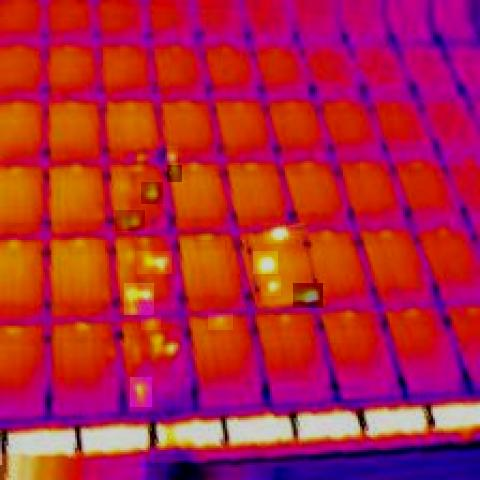fault: (148, 332, 182, 360), (125, 283, 154, 315), (137, 251, 172, 274), (294, 283, 324, 308), (264, 223, 296, 244), (130, 377, 152, 407), (115, 210, 146, 231), (253, 251, 278, 274), (141, 182, 163, 204), (208, 313, 233, 330), (261, 276, 281, 296), (141, 315, 161, 330), (193, 232, 221, 242), (167, 165, 182, 182), (165, 146, 178, 165)
